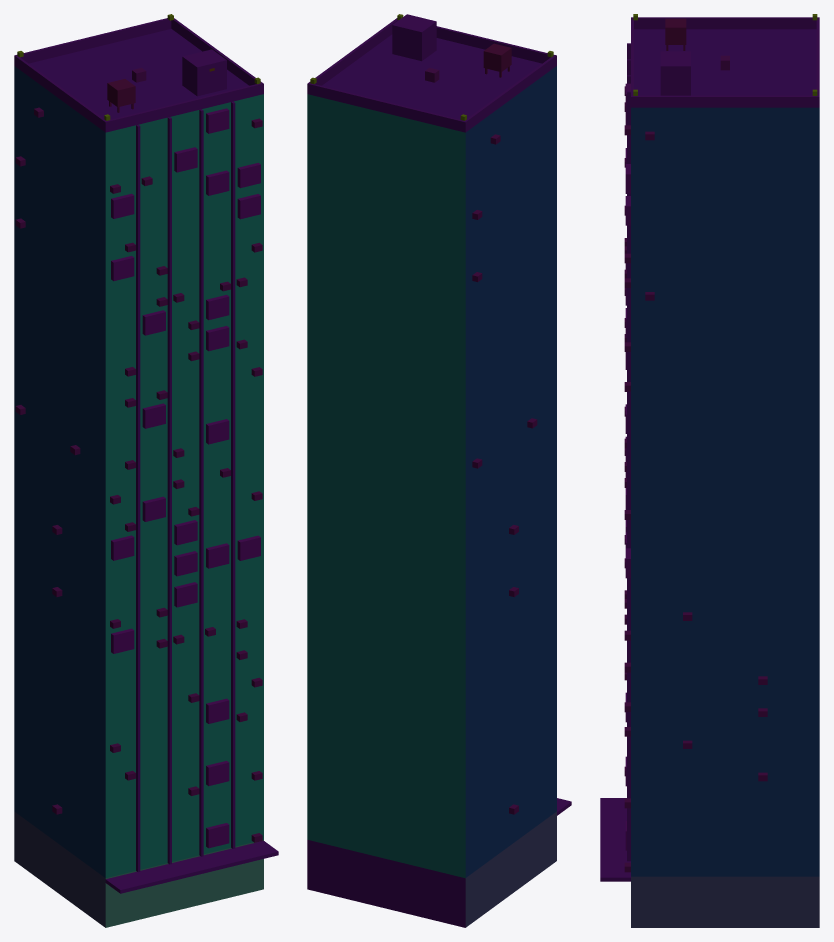
Rendered from slab_g.glb.
3 views of the same model, side by side, from view 1: azimuth 30°, elevation 25°; view 2: azimuth 150°, elevation 25°; view 3: azimuth 270°, elevation 25° (orthographic). The views are drawn at different scales.
Parts seen in each view (by area): view 1: slab_g; view 2: slab_g; view 3: slab_g.
Boxes of the visible parts, left/top/right/bottom form: slab_g: left=14, top=14, right=278, bottom=927; slab_g: left=307, top=14, right=571, bottom=927; slab_g: left=600, top=14, right=819, bottom=927.
Size of the model in its own units: 17.1 by 79.6 by 18.6.
